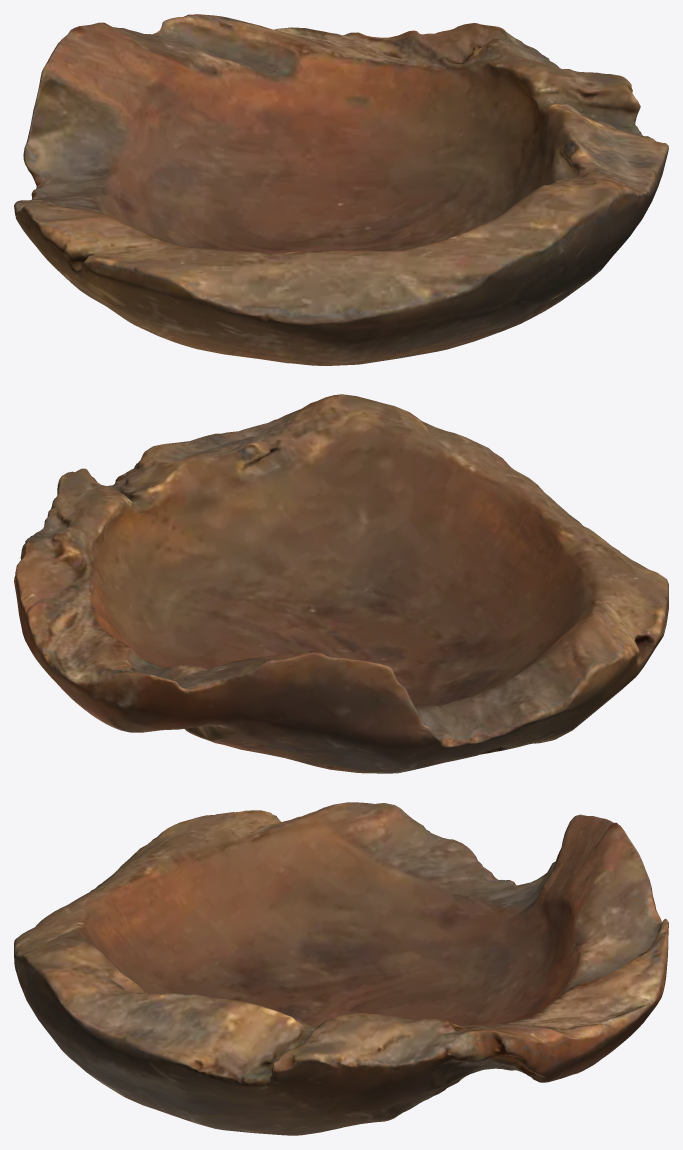
The model's file is wooden_bowl_01.glb.
3 renders of one model, top to bottom at view 1: azimuth 30°, elevation 25°; view 2: azimuth 150°, elevation 25°; view 3: azimuth 270°, elevation 25°, orthographic. The views are drawn at different scales.
Parts seen in each view (by area): view 1: wooden_bowl_01; view 2: wooden_bowl_01; view 3: wooden_bowl_01.
Part boxes in pixels (<box>): wooden_bowl_01: <box>14,14,668,365</box>; wooden_bowl_01: <box>14,394,668,773</box>; wooden_bowl_01: <box>14,802,668,1135</box>.
Size of the model in its own units: 0.3131 by 0.0937 by 0.3091.
1 material, 1 textured.
